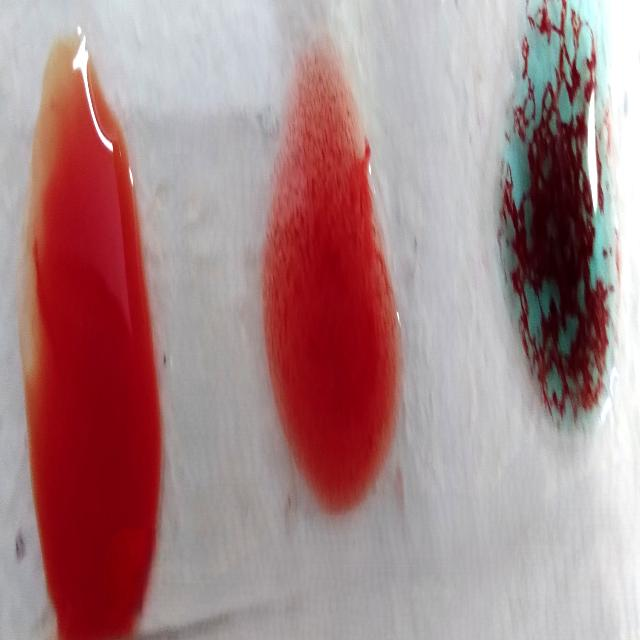A: (495, 0, 619, 439)
D: (263, 61, 401, 508)
